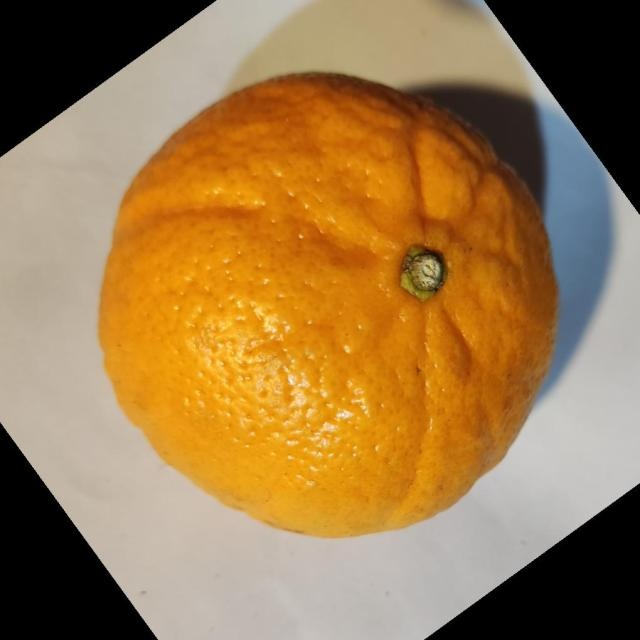agrume: (96, 69, 560, 539)
